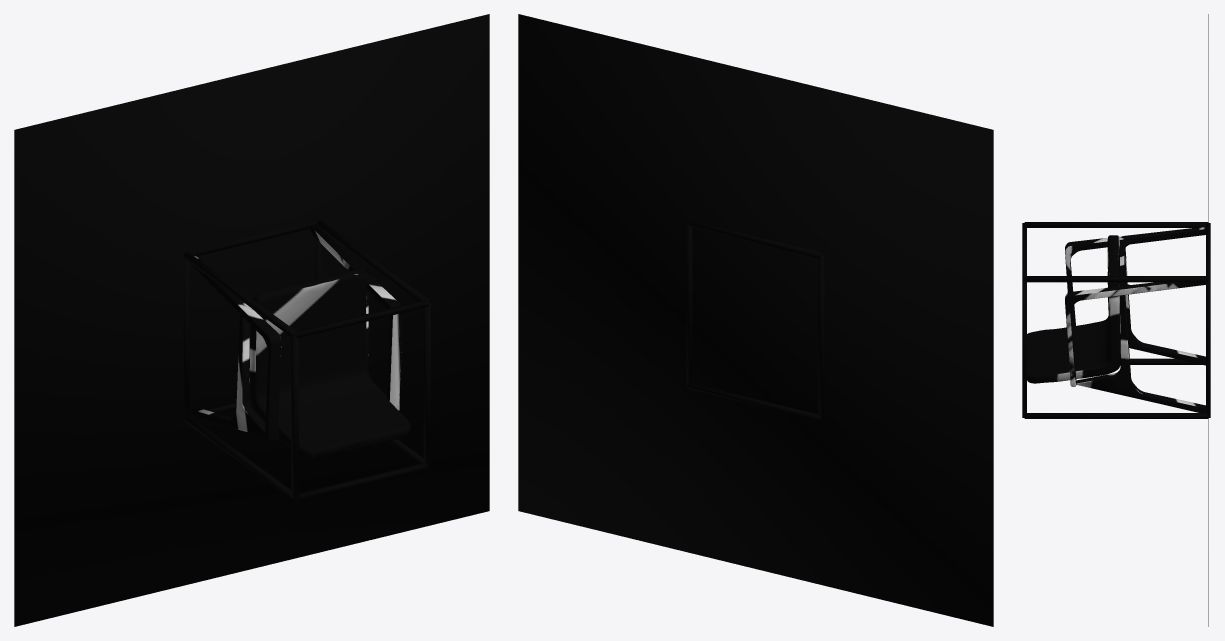
3 renders of one model, left to right at view 1: azimuth 30°, elevation 25°; view 2: azimuth 150°, elevation 25°; view 3: azimuth 270°, elevation 25°, orthographic. The views are drawn at different scales.
Size of the model in its own units: 2 by 2 by 0.8171.
